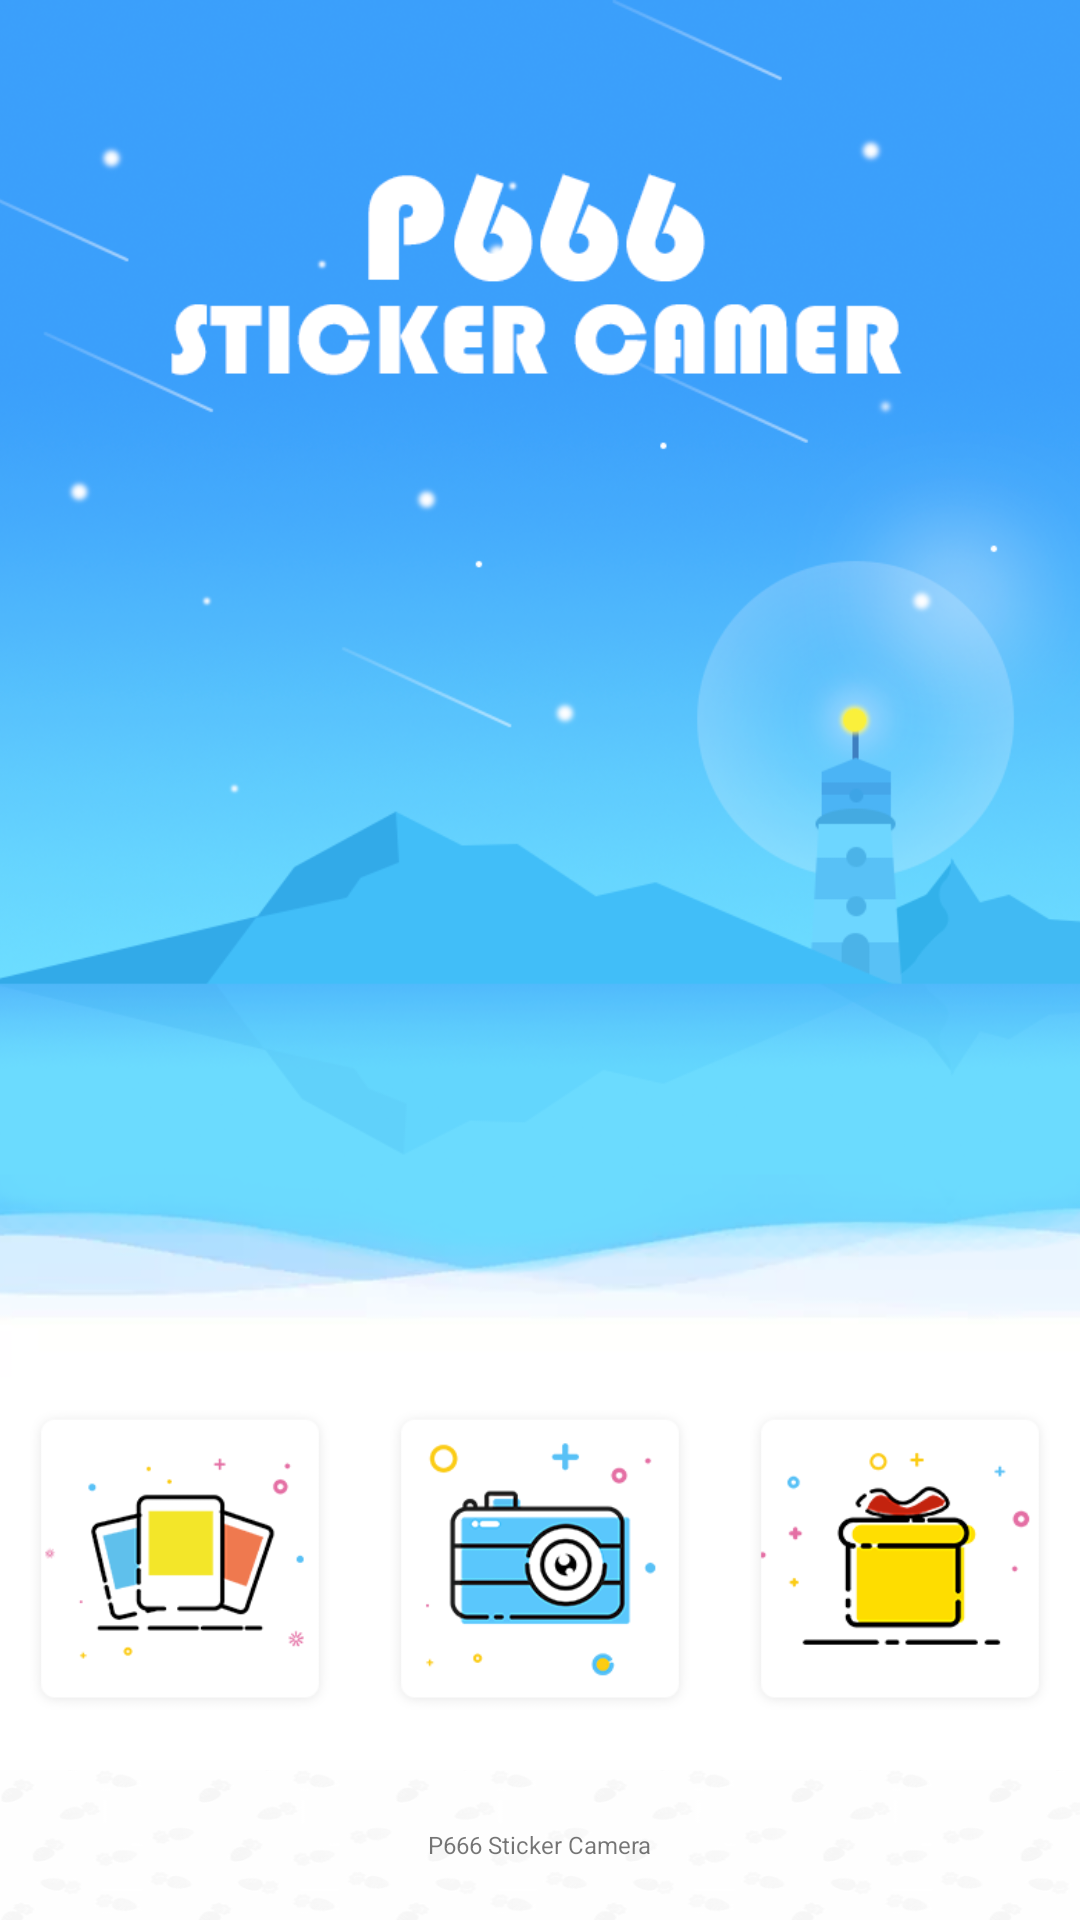

Icons on this 1080×1920 Android screen, each with the point to tap as (x=x, y=y):
photo: (x=174, y=1558)
